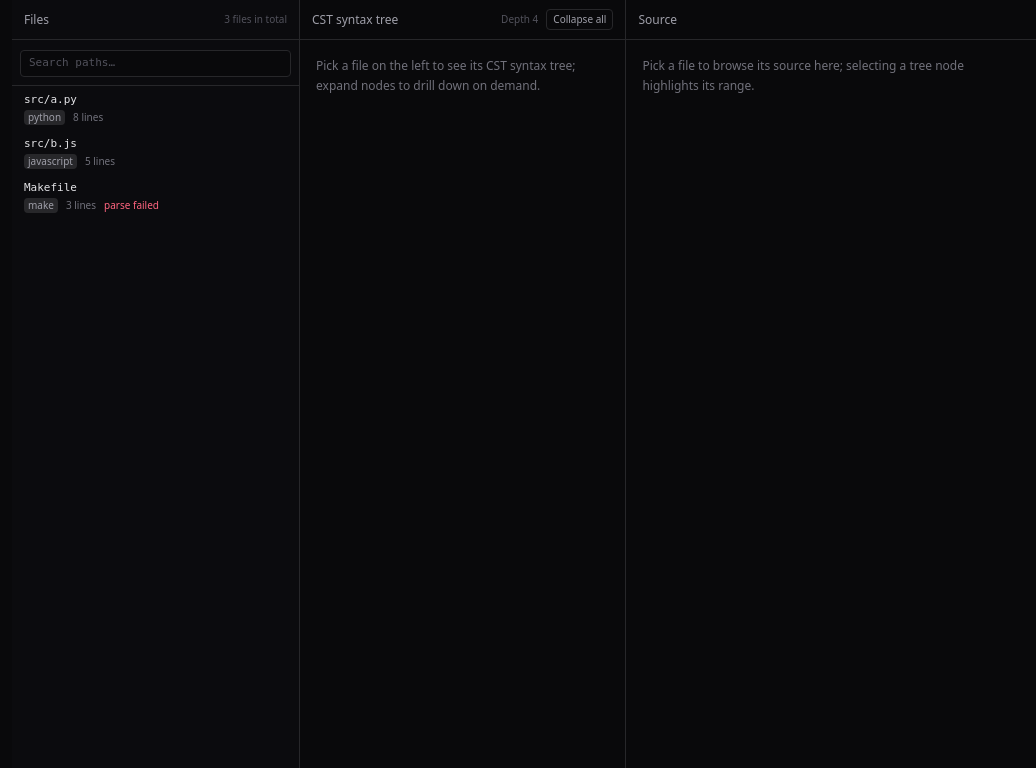
CstView 文件列表 › 搜索防抖：连续输入只发一次带 q 的请求，并按结果过滤
Expected: the number of buttons with test id "cst-file-item" is 3, [12,86,299,131]; [12,130,299,175]; [12,174,299,219]
Type "M" into the search field with test id "cst-file-search" at (156, 63), box [20,50,291,76]
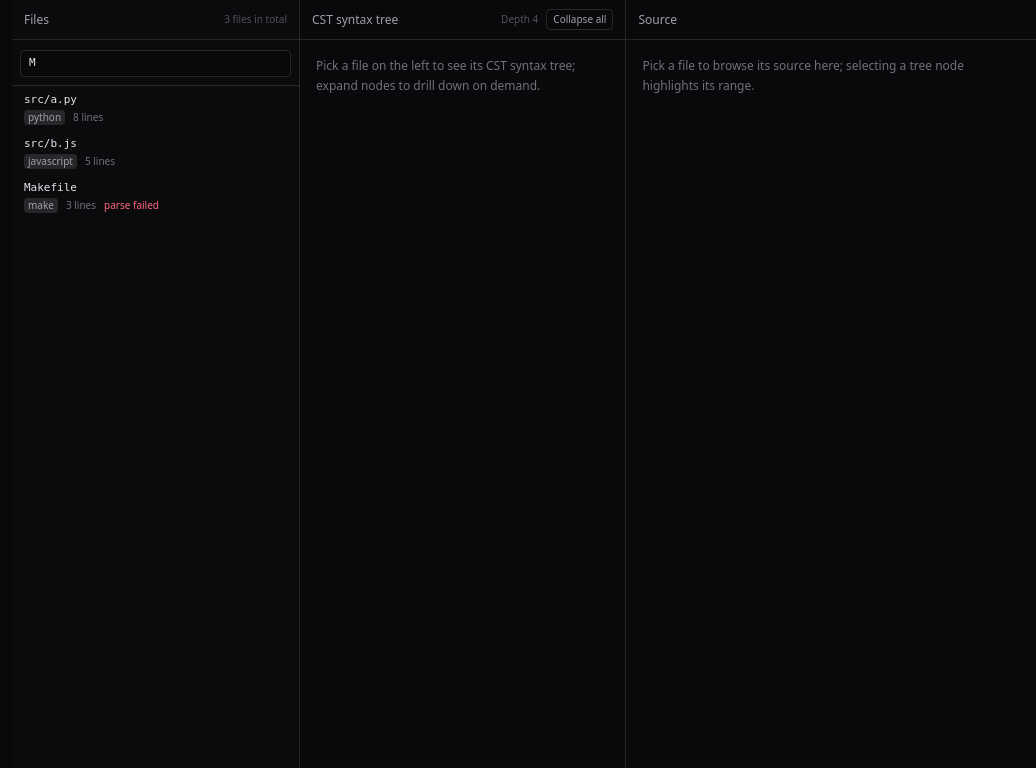
Replace the text in the search field with test id "cst-file-search" with "Ma" at (156, 63), box [20,50,291,76]
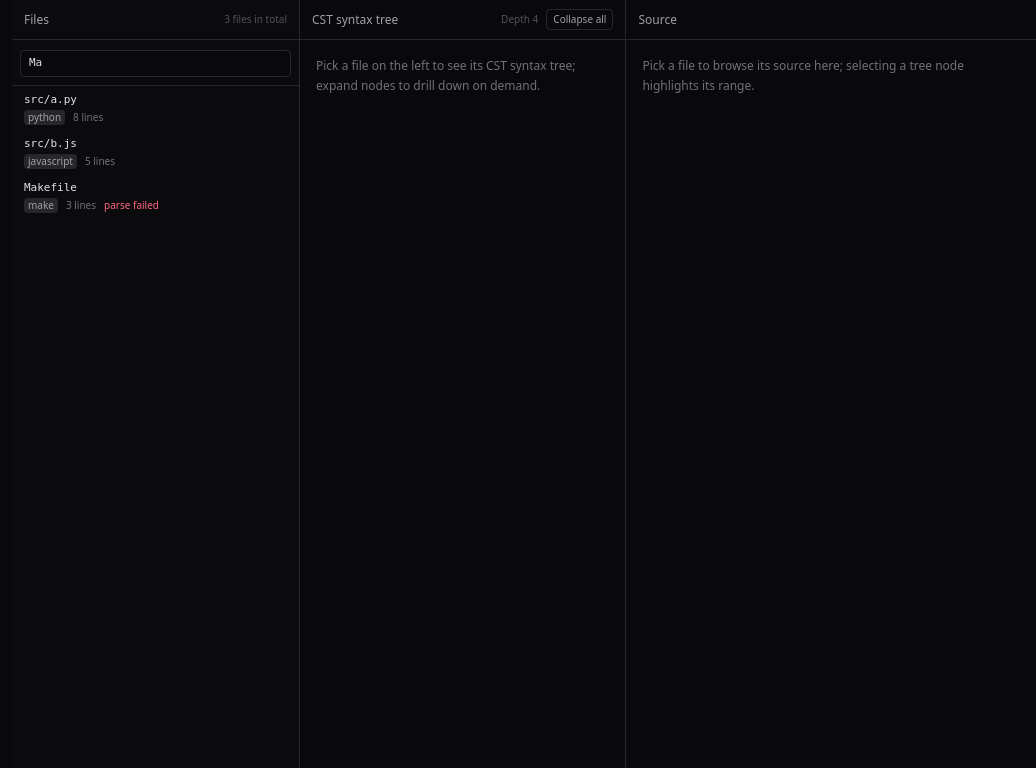
Replace the text in the search field with test id "cst-file-search" with "Mak" at (156, 63), box [20,50,291,76]
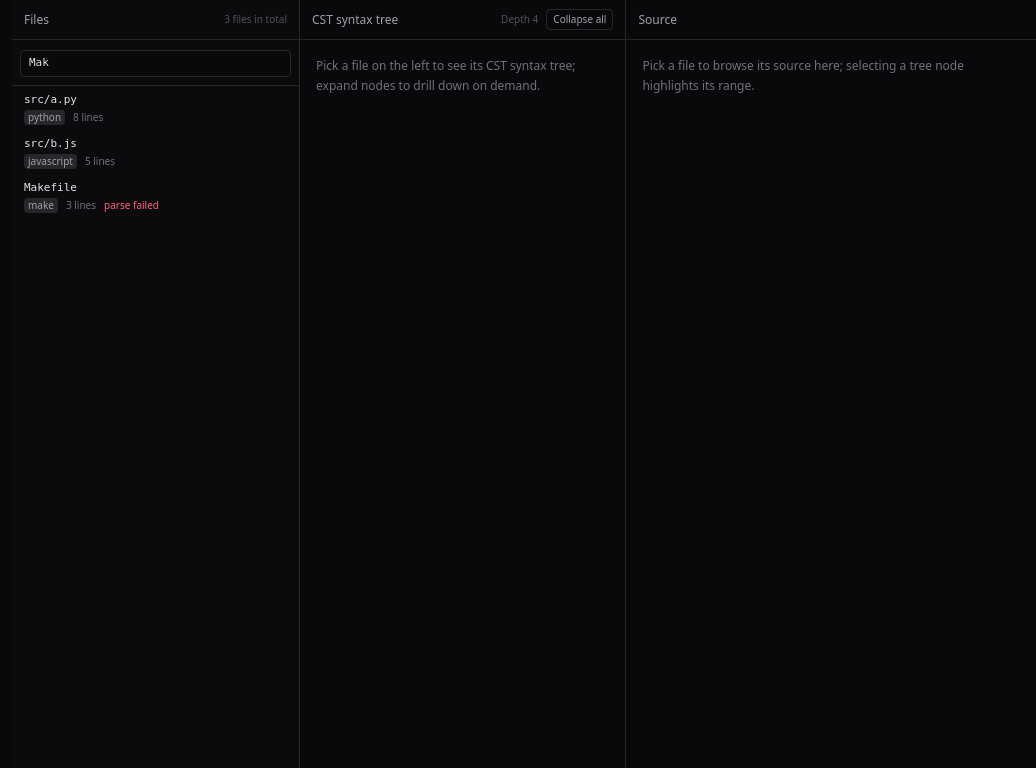
Replace the text in the search field with test id "cst-file-search" with "Make" at (156, 63), box [20,50,291,76]
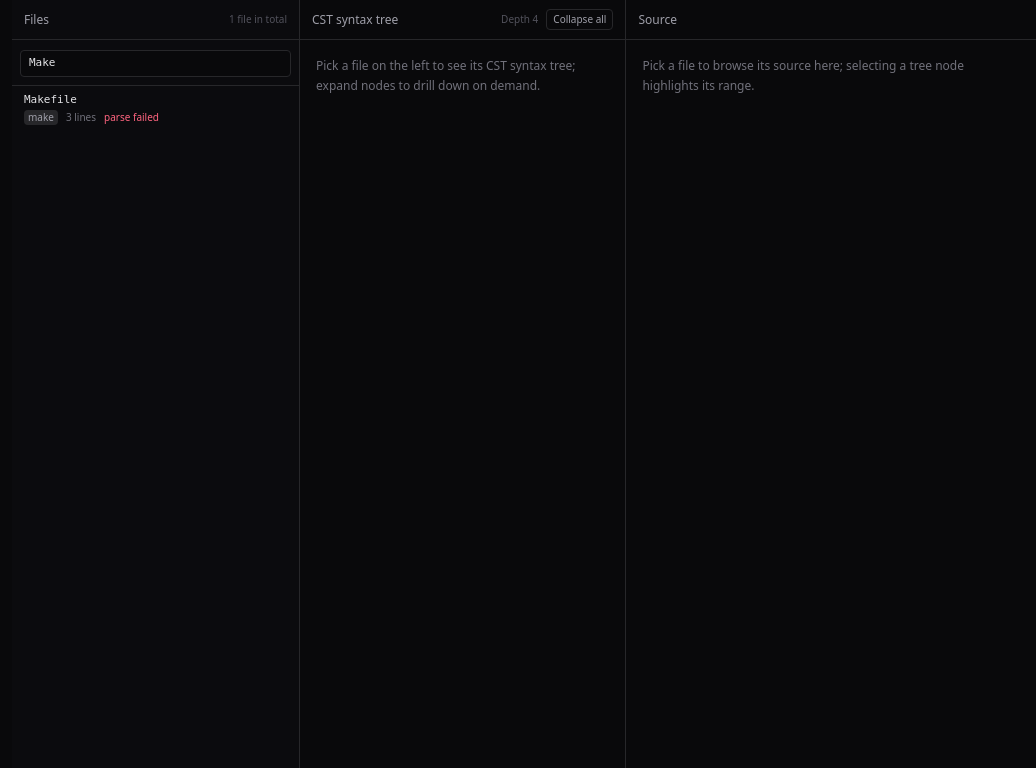
Now the number of buttons with test id "cst-file-item" is 1, box [12,86,299,131]
